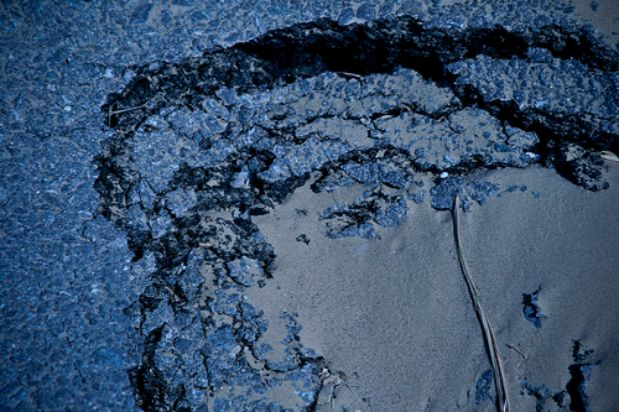pothole: (83, 9, 618, 409)
